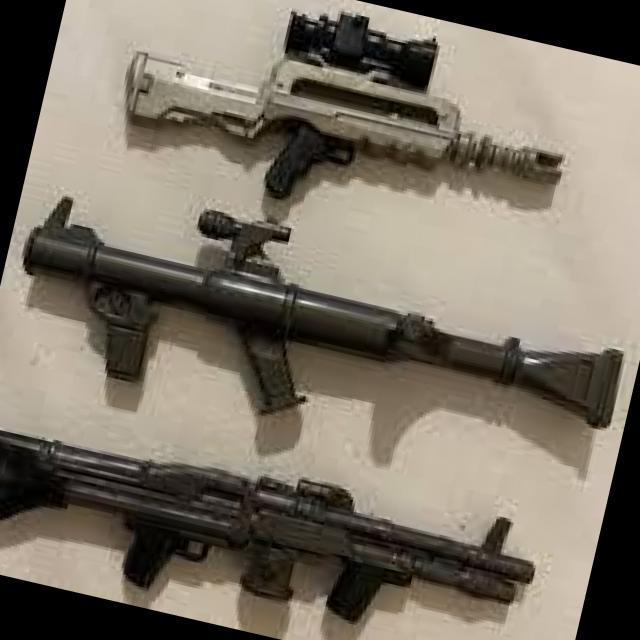rocket: (2, 183, 632, 479)
